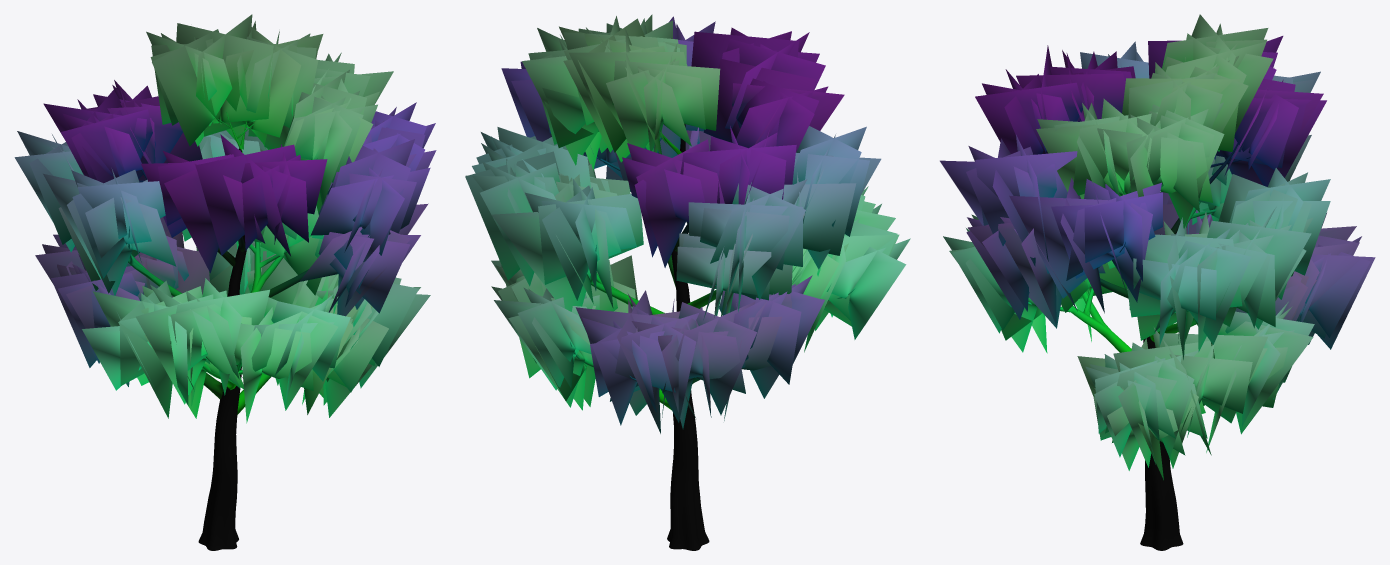
The model's file is Tree16_eucalyptus.fbx.
3 views of the same model, side by side, from view 1: azimuth 30°, elevation 25°; view 2: azimuth 150°, elevation 25°; view 3: azimuth 270°, elevation 25° (orthographic). The views are drawn at different scales.
Parts seen in each view (by area): view 1: Tree_1, Tree_0; view 2: Tree_1, Tree_0; view 3: Tree_1, Tree_0.
Boxes of the visible parts, bbox=[...] form: Tree_1: bbox=[14, 14, 436, 423]; Tree_0: bbox=[128, 112, 339, 550]; Tree_1: bbox=[465, 14, 910, 433]; Tree_0: bbox=[570, 124, 855, 550]; Tree_1: bbox=[940, 14, 1375, 480]; Tree_0: bbox=[1028, 143, 1250, 550].
Size of the model in its own units: 273 by 337 by 264.
